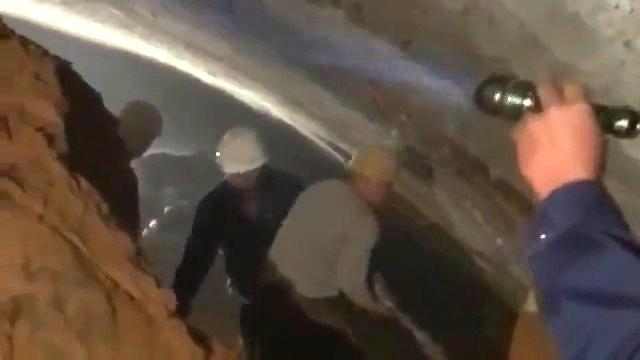helmet: (214, 125, 271, 193), (345, 142, 399, 212)
